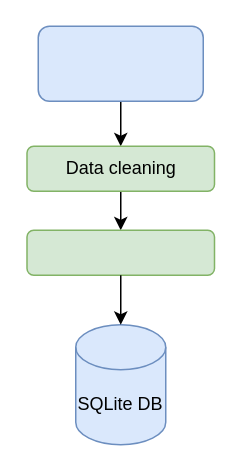
Image size: 240x471. Some labels were removed from this diagram. The shapes that lost their labels are listed below. From the top down, each one's box as (x1, y1, x2, y2) in pixels, then its label:
(37, 25, 203, 101): Bank statement *.csv
(26, 229, 214, 275): Data mapping
